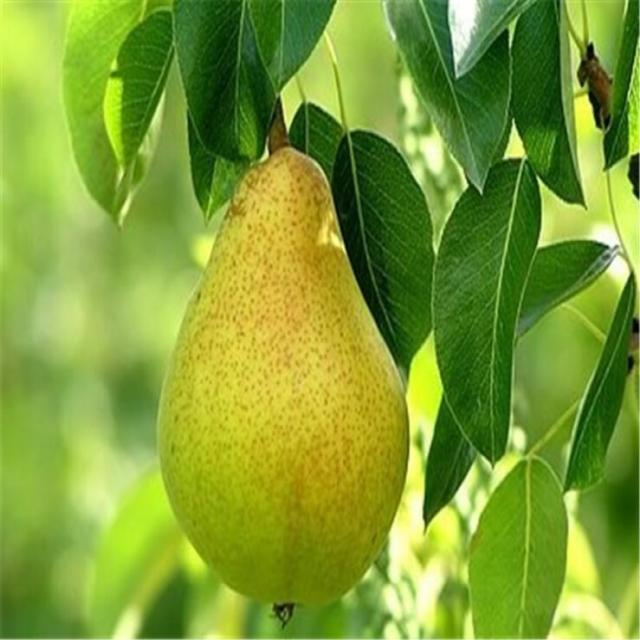pear: (149, 102, 414, 618)
